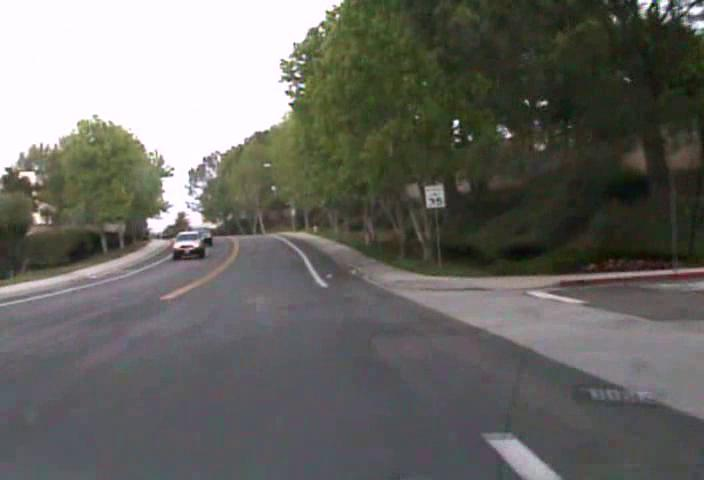speedLimit35: (424, 182, 446, 209)
